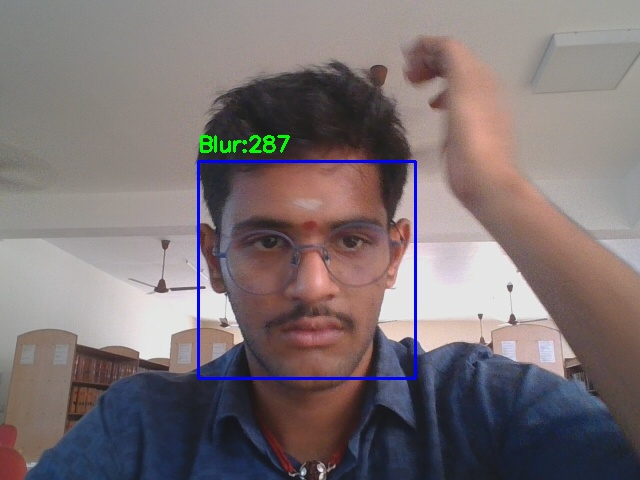real: (198, 161, 415, 378)
